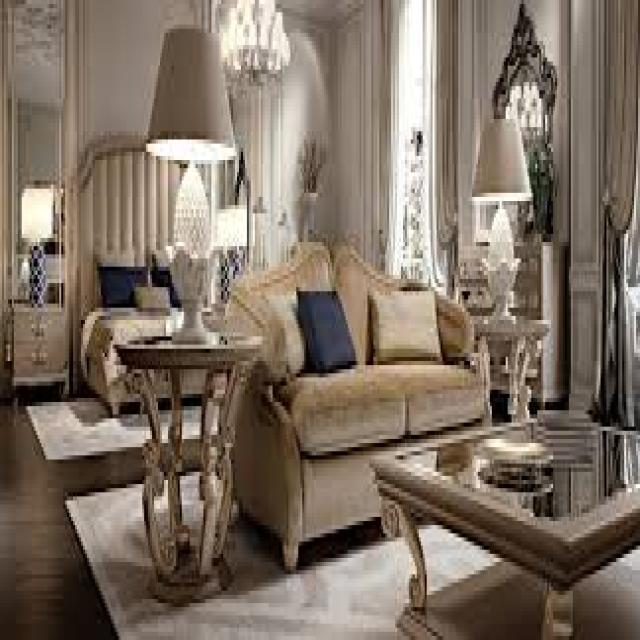Lamp: (147, 16, 236, 324), (475, 115, 525, 306)
Sofa: (235, 252, 490, 562)
Table: (385, 431, 640, 624)
